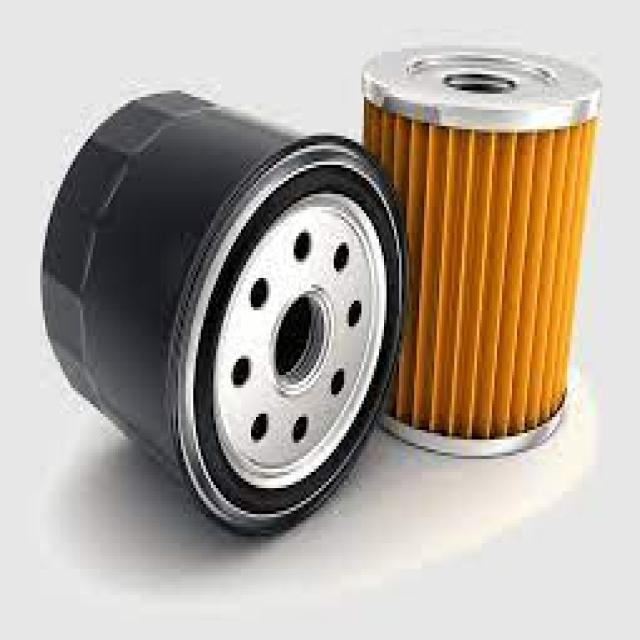oil_filter: (30, 73, 365, 537), (366, 52, 613, 463)
